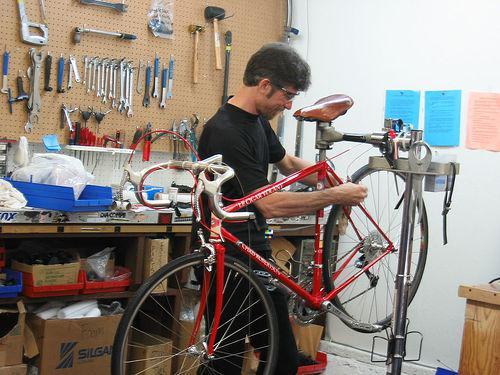car: (109, 94, 430, 375)
person: (189, 43, 368, 375)
